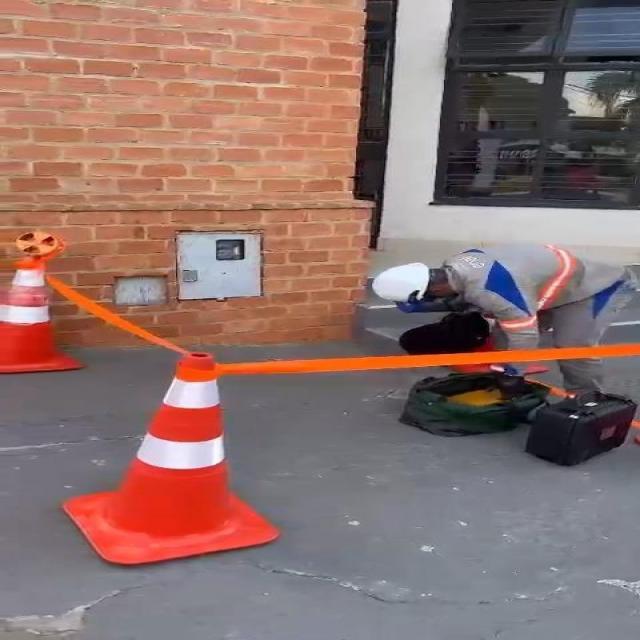Cone: (71, 344, 309, 576), (4, 251, 98, 397)
Helmet: (367, 260, 478, 314)
